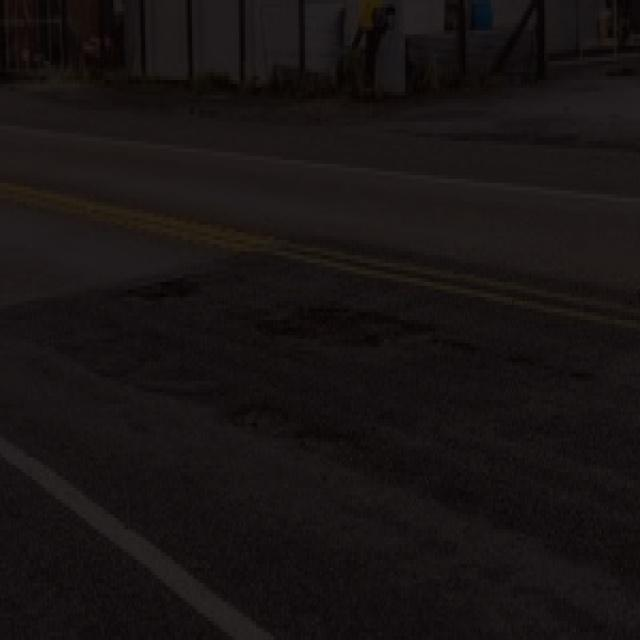Pothole: (252, 293, 442, 360), (222, 392, 289, 444), (136, 272, 210, 310)
